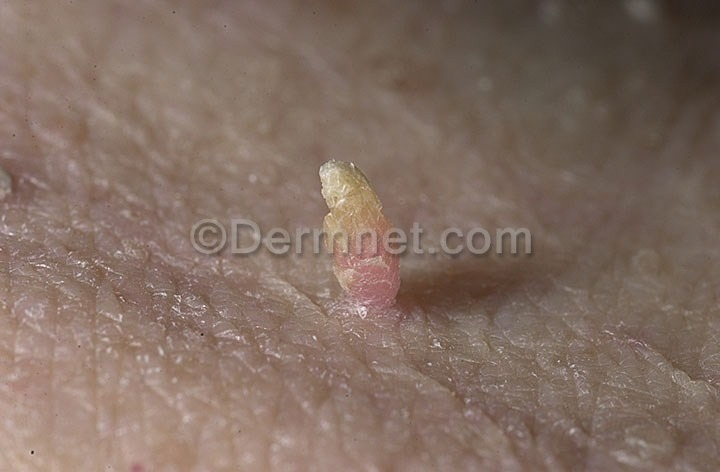Warts: (309, 144, 390, 230)
